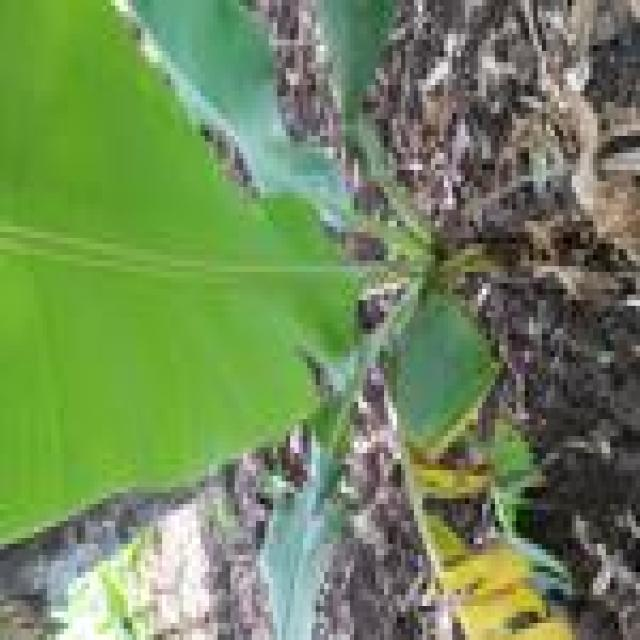Early_rust: (375, 386, 567, 640)
